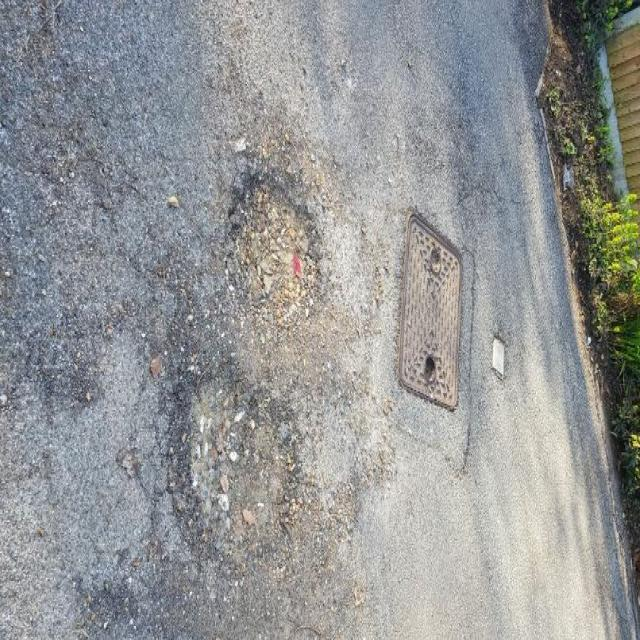pothole: (165, 342, 303, 580), (223, 155, 327, 331)
